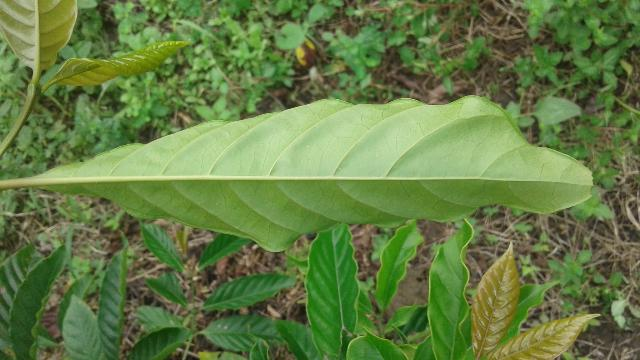healthy: (29, 95, 597, 254)
